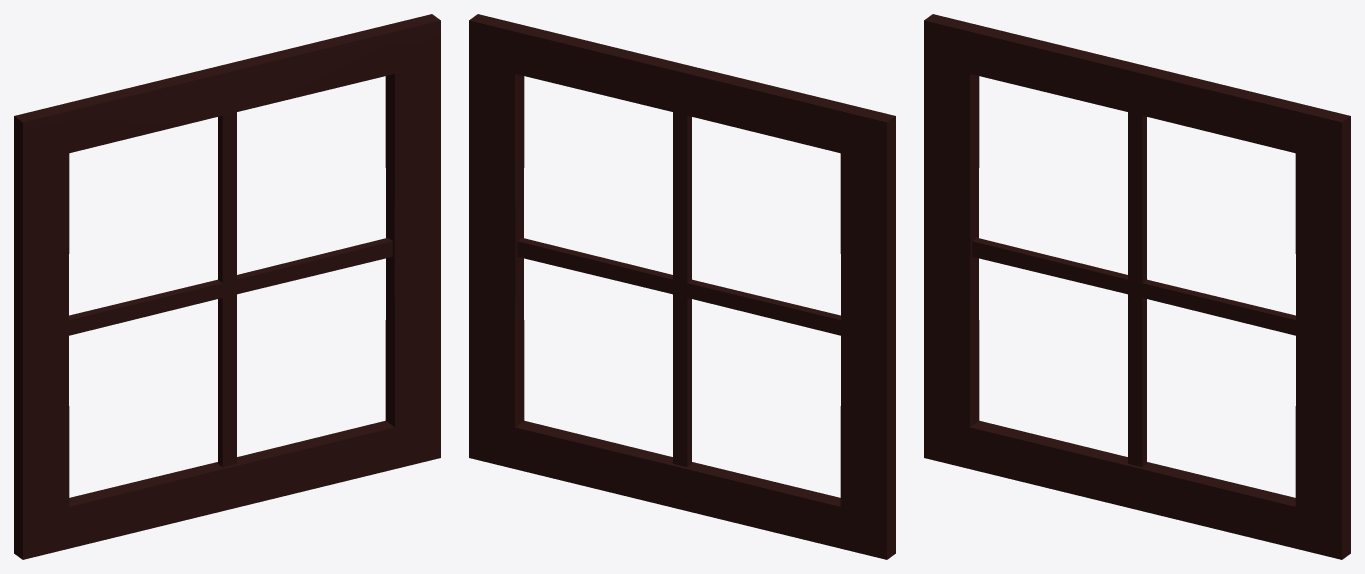
Rendered from window.fbx.
3 views of the same model, side by side, from view 1: azimuth 30°, elevation 25°; view 2: azimuth 150°, elevation 25°; view 3: azimuth 330°, elevation 25° (orthographic).
Visible parts, largest first — view 1: pCube33; view 2: pCube33; view 3: pCube33.
Boxes of the visible parts, box(x1,y1,x2,y2) form: pCube33: box(14, 14, 440, 559); pCube33: box(469, 14, 895, 559); pCube33: box(924, 14, 1350, 559).
Bounding box in the file's own units: 200 × 200 × 7.69.
